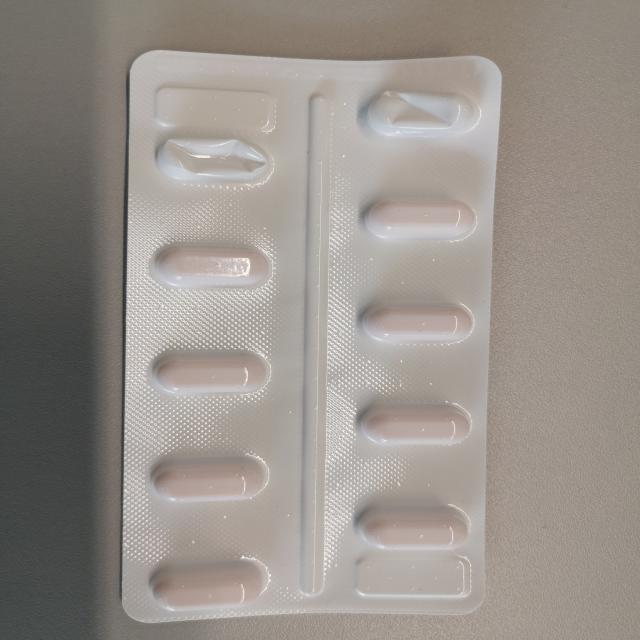Empty: (344, 77, 488, 147), (140, 128, 290, 194)
Pill: (134, 232, 288, 298), (138, 548, 280, 613), (346, 389, 484, 455), (346, 192, 488, 255), (144, 341, 284, 404), (133, 447, 282, 505), (342, 495, 477, 557), (344, 294, 486, 352)
